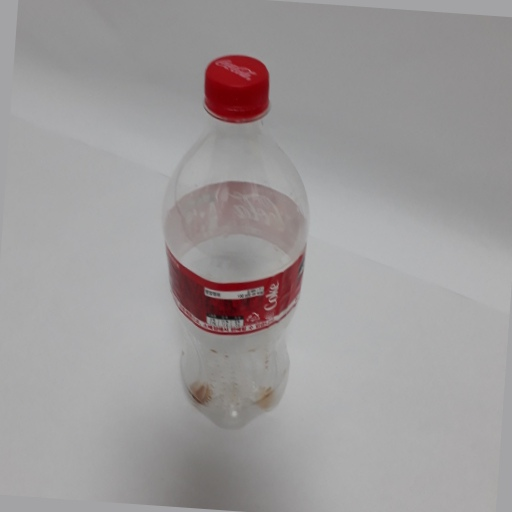Plastic_0: (154, 52, 315, 435)
